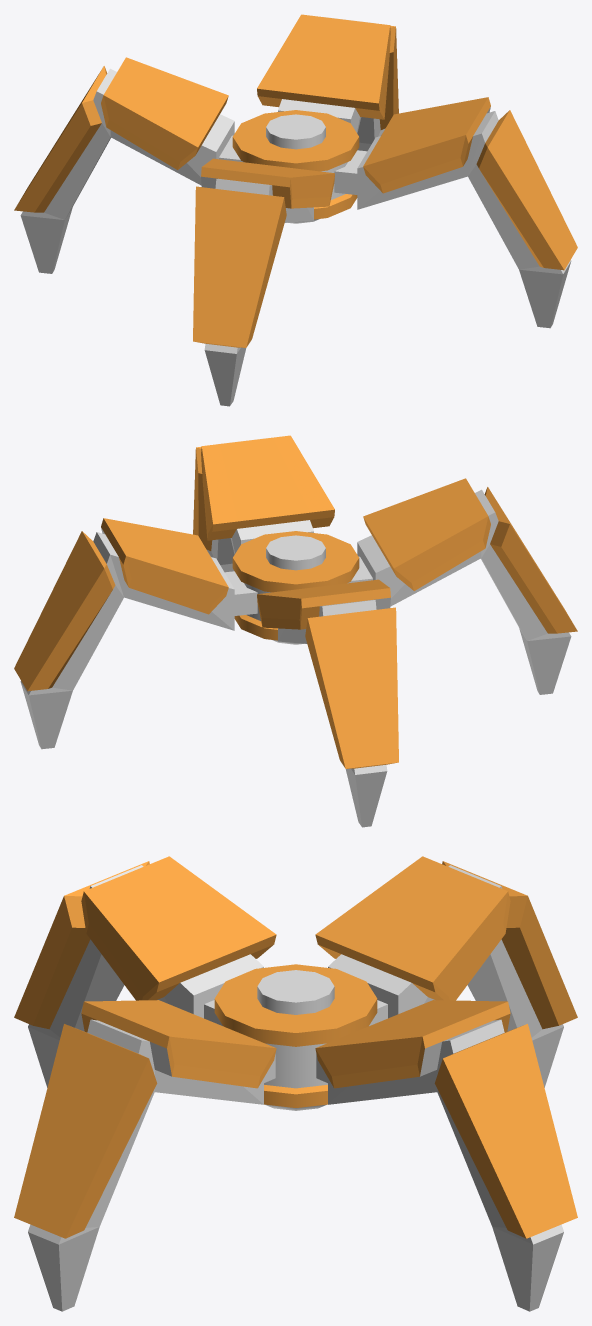
Rendered from Bot_Legs.fbx.
3 renders of one model, top to bottom at view 1: azimuth 30°, elevation 25°; view 2: azimuth 150°, elevation 25°; view 3: azimuth 270°, elevation 25°, orthographic. The views are drawn at different scales.
Parts seen in each view (by area): view 1: Leg_4_Lower, Leg_1_Lower, Leg_2_Upper, Leg_3_Upper, Leg_1_Upper, Leg_3_Lower, Centre, Leg_4_Upper, Leg_2_Lower; view 2: Leg_3_Lower, Leg_2_Lower, Leg_1_Upper, Leg_4_Upper, Leg_2_Upper, Leg_4_Lower, Centre, Leg_3_Upper, Leg_1_Lower; view 3: Leg_1_Lower, Leg_2_Lower, Leg_3_Upper, Leg_4_Upper, Centre, Leg_1_Upper, Leg_2_Upper, Leg_4_Lower, Leg_3_Lower.
Part boxes in pixels (<box>): Leg_4_Lower: <box>193,179,286,406</box>; Leg_1_Lower: <box>468,110,577,328</box>; Leg_2_Upper: <box>257,14,390,133</box>; Leg_3_Upper: <box>96,57,242,185</box>; Leg_1_Upper: <box>334,97,494,209</box>; Leg_3_Lower: <box>14,66,110,273</box>; Centre: <box>232,110,359,223</box>; Leg_4_Upper: <box>201,158,334,222</box>; Leg_2_Lower: <box>357,25,398,151</box>; Leg_3_Lower: <box>305,600,398,827</box>; Leg_2_Lower: <box>14,531,123,749</box>; Leg_1_Upper: <box>201,435,334,554</box>; Leg_4_Upper: <box>349,478,495,606</box>; Leg_2_Upper: <box>97,518,257,630</box>; Leg_4_Lower: <box>481,487,577,694</box>; Centre: <box>232,531,359,644</box>; Leg_3_Upper: <box>257,579,390,643</box>; Leg_1_Lower: <box>193,446,234,572</box>; Leg_1_Lower: <box>14,1019,157,1311</box>; Leg_2_Lower: <box>434,1019,577,1311</box>; Leg_3_Upper: <box>315,856,510,1025</box>; Leg_4_Upper: <box>81,856,276,1025</box>; Centre: <box>214,964,377,1110</box>; Leg_1_Upper: <box>81,1000,276,1104</box>; Leg_2_Upper: <box>315,1000,510,1104</box>; Leg_4_Lower: <box>14,861,149,1087</box>; Leg_3_Lower: <box>442,861,577,1087</box>.
Size of the model in its own units: 0.4691 by 0.2355 by 0.4617.
